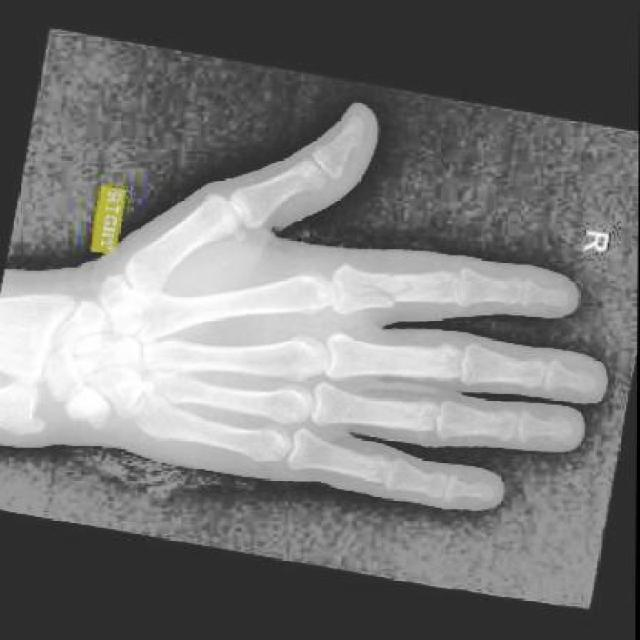Fracture: (342, 257, 429, 316)
